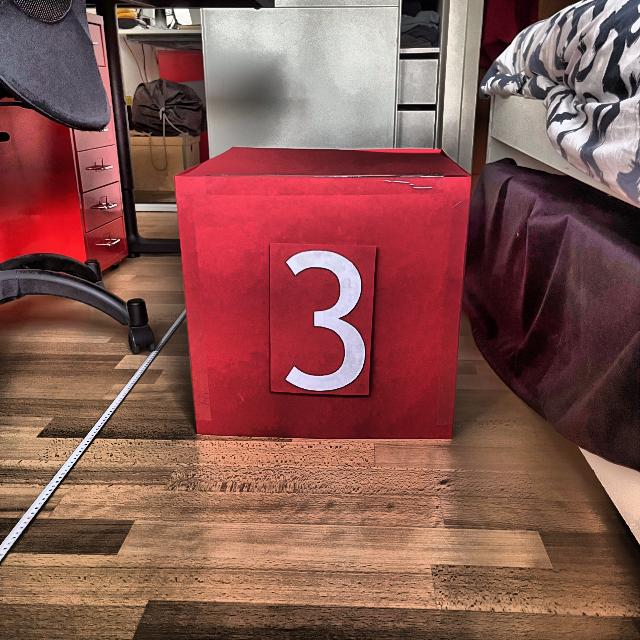red box: (172, 145, 476, 451)
three: (278, 245, 373, 394)
